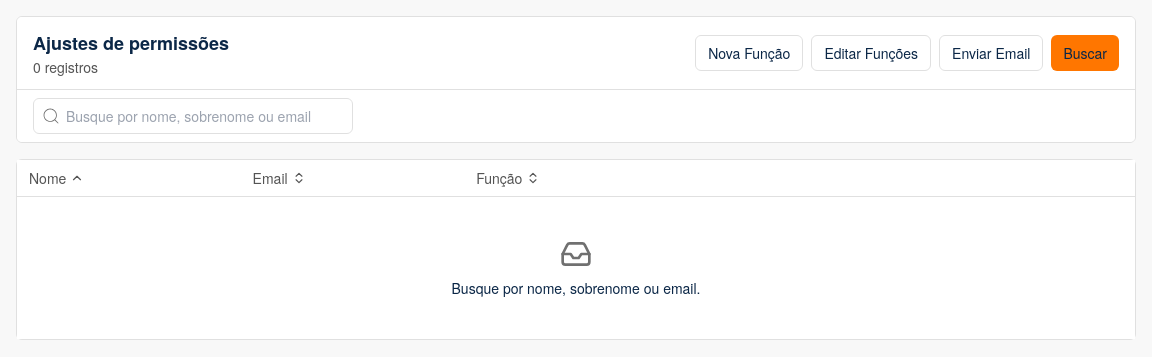
Test: DashRoles no DashListTemplate (usuários 03) › mostra o nome social quando a pessoa pediu
The image size is (1152, 357).
Step 1. Click the button "Buscar" → (1085, 53), box [1051,35,1119,71]
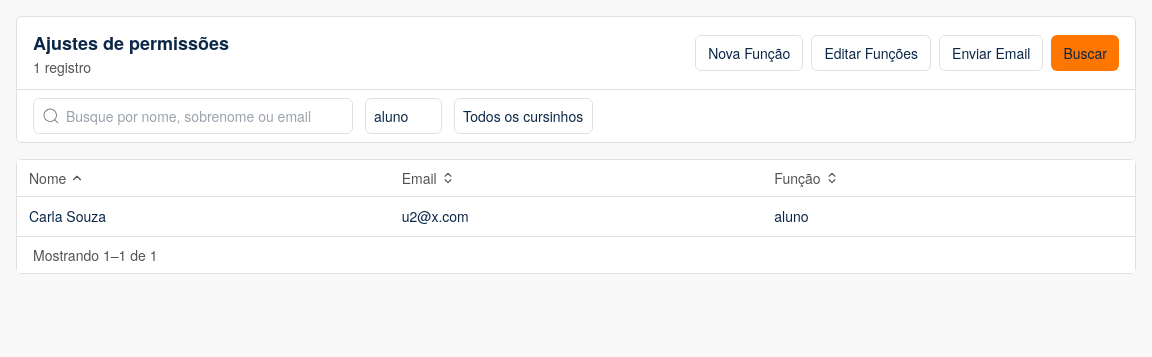
Now the button "Carla Souza" is shown, box [29,206,378,226]
